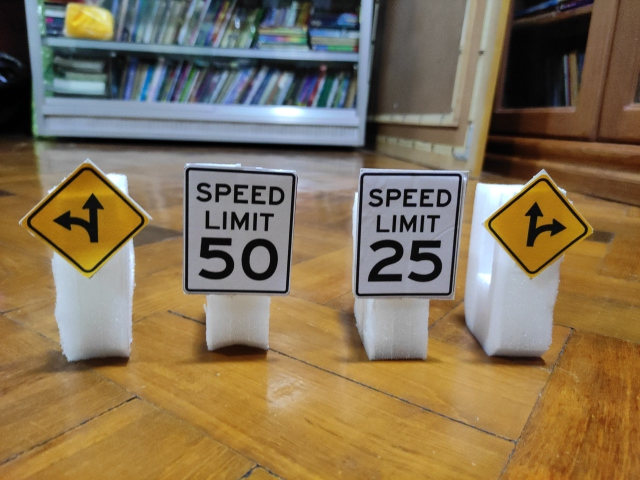Speed Limit 25: (354, 170, 465, 298)
Speed Limit 50: (182, 164, 300, 294)
Straight Or Left Sign: (23, 163, 150, 277)
Straight Or Right Sign: (485, 176, 592, 276)
